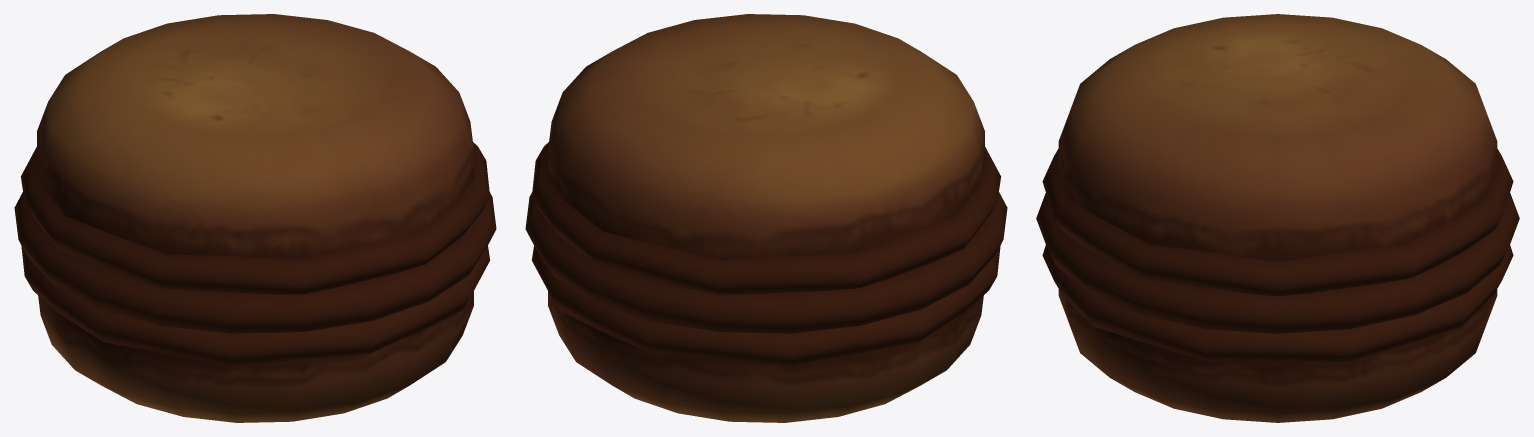
The model's file is Macaron.glb.
3 views of the same model, side by side, from view 1: azimuth 30°, elevation 25°; view 2: azimuth 150°, elevation 25°; view 3: azimuth 270°, elevation 25° (orthographic).
Visible parts, largest first — view 1: geometry_0; view 2: geometry_0; view 3: geometry_0.
Part boxes in pixels (bbox=[...]): geometry_0: bbox=[14, 14, 496, 422]; geometry_0: bbox=[525, 14, 1007, 422]; geometry_0: bbox=[1036, 14, 1519, 422].
Bounding box in the file's own units: 0.0522 × 0.0328 × 0.0522.
Materials: 1 (1 with a texture image).
